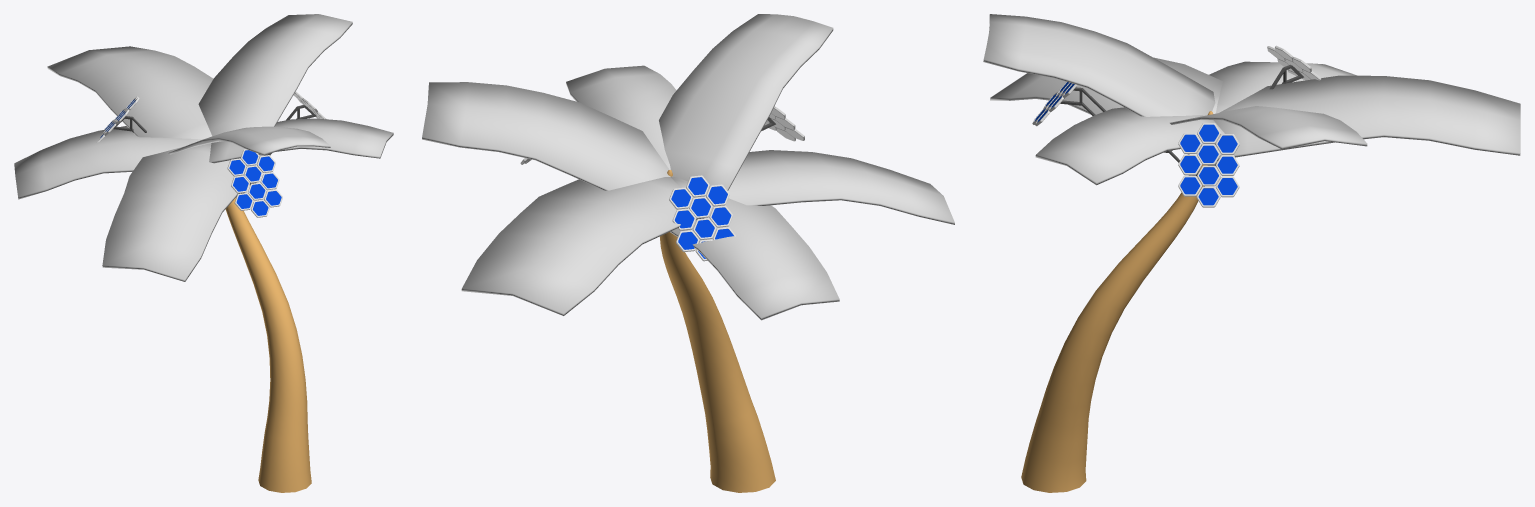
Rendered from SM_PrototypeSolarTree_1.fbx.
3 renders of one model, left to right at view 1: azimuth 30°, elevation 25°; view 2: azimuth 150°, elevation 25°; view 3: azimuth 270°, elevation 25°, orthographic. The views are drawn at different scales.
Visible parts, largest first — view 1: BezierCurve.001; view 2: BezierCurve.001; view 3: BezierCurve.001.
Boxes of the visible parts, left/top/right/bottom form: BezierCurve.001: left=14, top=14, right=393, bottom=492; BezierCurve.001: left=422, top=14, right=954, bottom=492; BezierCurve.001: left=983, top=14, right=1520, bottom=492.
Bounding box in the file's own units: 608 × 618 × 686.
